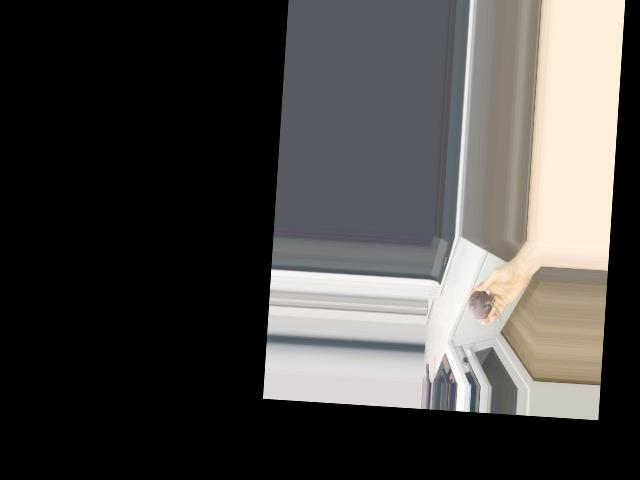beet: (467, 290, 503, 324)
